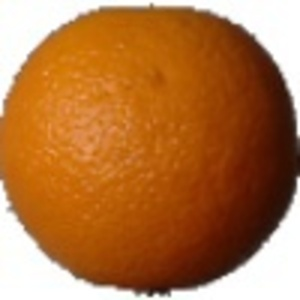laranja: (3, 2, 299, 298)
